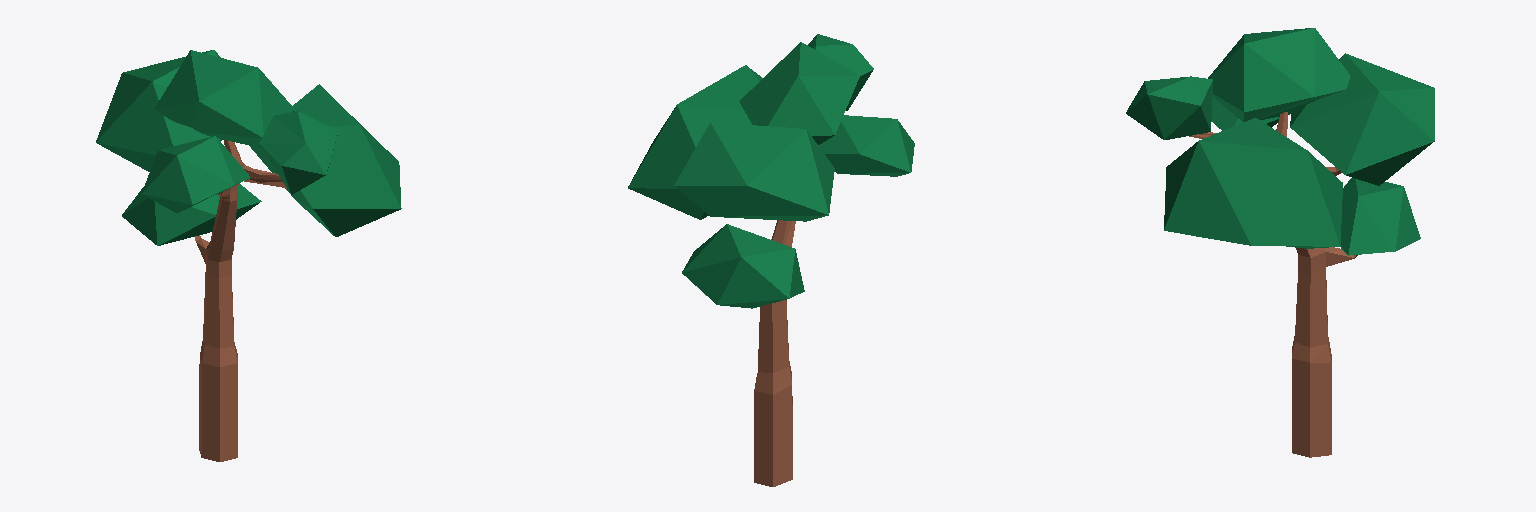
The model's file is jungle_tree2.obj.
3 renders of one model, left to right at view 1: azimuth 30°, elevation 25°; view 2: azimuth 150°, elevation 25°; view 3: azimuth 270°, elevation 25°, orthographic.
Visible parts, largest first — view 1: jungle_tree2_pasted__pCylinder4 jungle_tree2 group10; view 2: jungle_tree2_pasted__pCylinder4 jungle_tree2 group10; view 3: jungle_tree2_pasted__pCylinder4 jungle_tree2 group10.
Boxes of the visible parts, x1,y1,x2,y2 form: jungle_tree2_pasted__pCylinder4 jungle_tree2 group10: [96, 50, 401, 461]; jungle_tree2_pasted__pCylinder4 jungle_tree2 group10: [628, 34, 914, 486]; jungle_tree2_pasted__pCylinder4 jungle_tree2 group10: [1126, 28, 1434, 457].
Bounding box in the file's own units: 7.28 × 11.06 × 7.56.